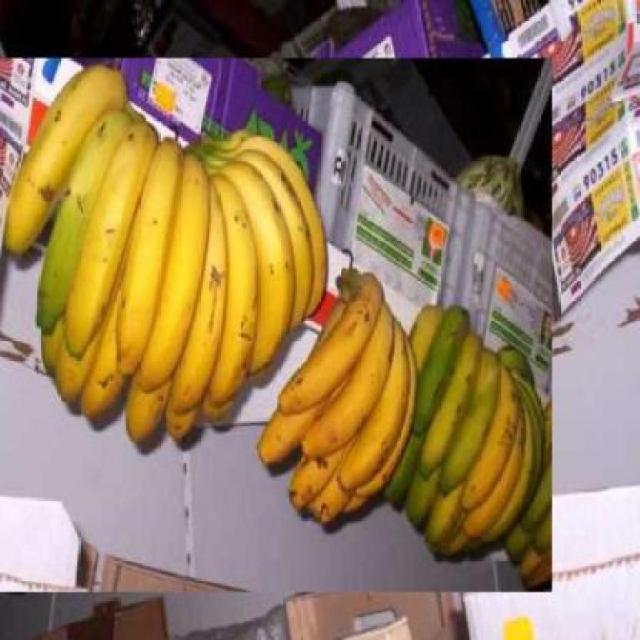Banana: (0, 57, 332, 458), (255, 266, 421, 524), (389, 301, 551, 562)
